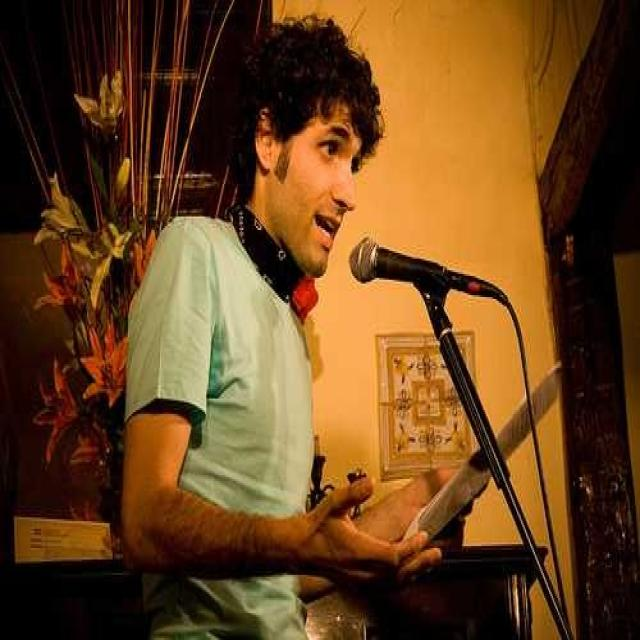microphone: (348, 232, 469, 298)
